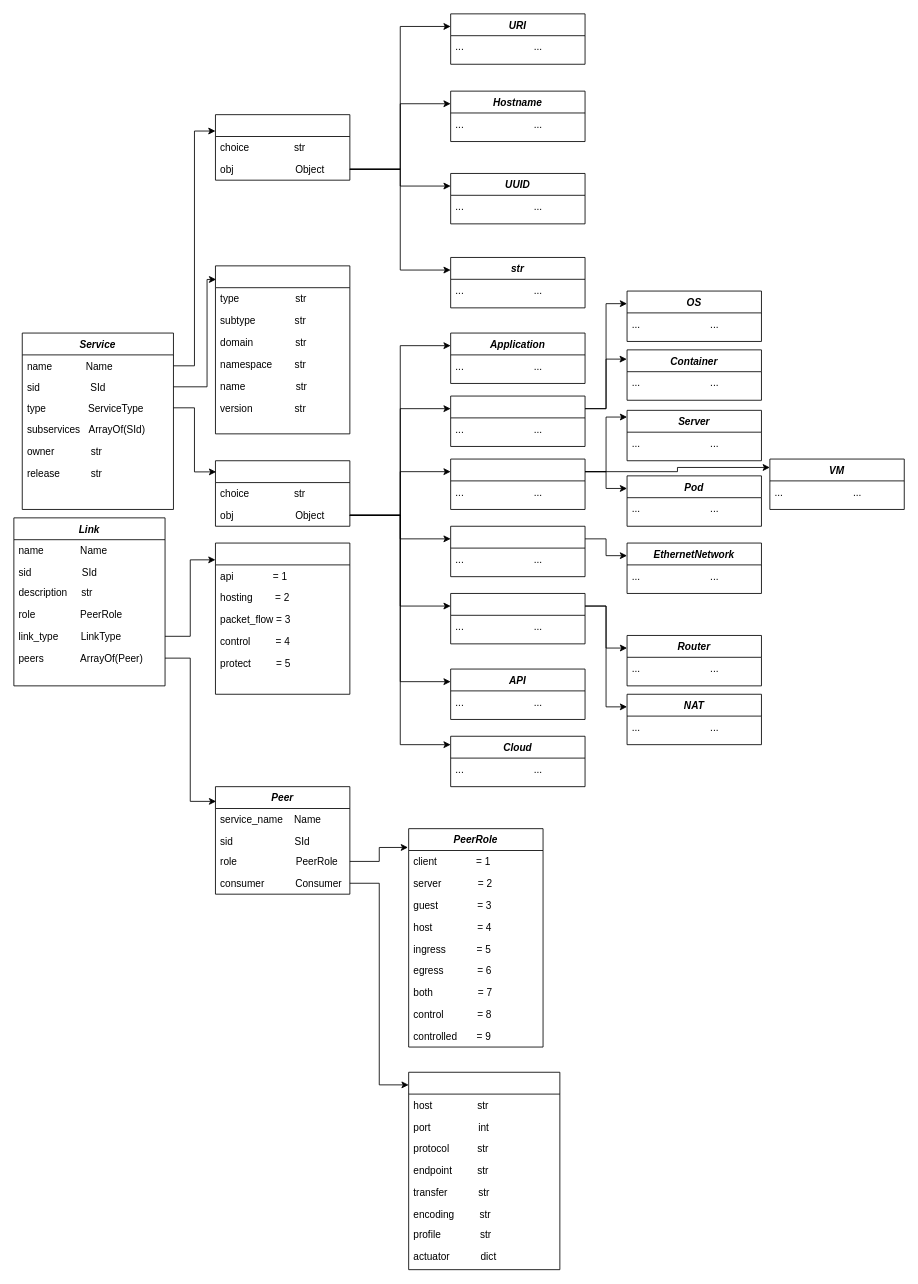
The diagram is 918 pixels wide and 1284 high, and some of its shapes have lost their labels. The shapes that lost their labels are listed below. From the top down, each one's box as (x1, y1, x2, y2) in pixels, then its label:
(215, 114, 350, 180): Name
(215, 265, 350, 434): SId
(450, 395, 585, 446): ExecutionEnvironment
(215, 460, 350, 526): ServiceType
(450, 458, 585, 509): Host
(450, 525, 585, 577): Network
(215, 542, 350, 694): LinkType
(450, 593, 585, 644): NetworkFunction
(408, 1071, 560, 1270): Consumer
